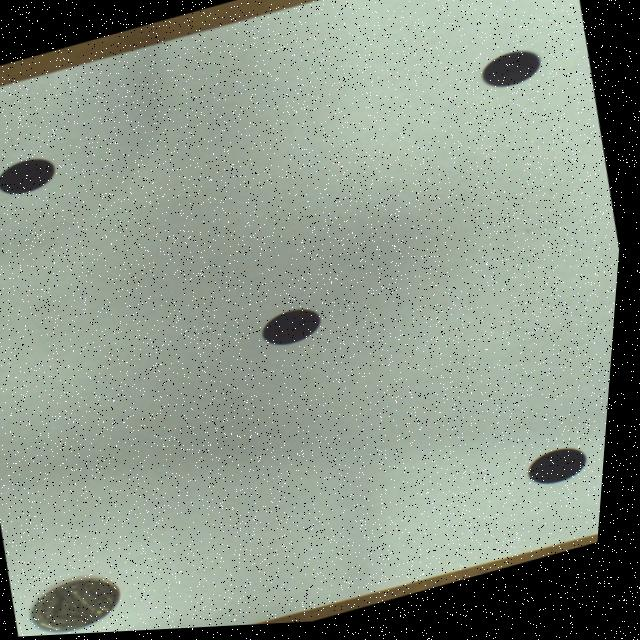space: (482, 55, 542, 92), (535, 453, 594, 489), (267, 311, 326, 347), (1, 158, 57, 193)
tail5bath: (42, 578, 129, 632)
